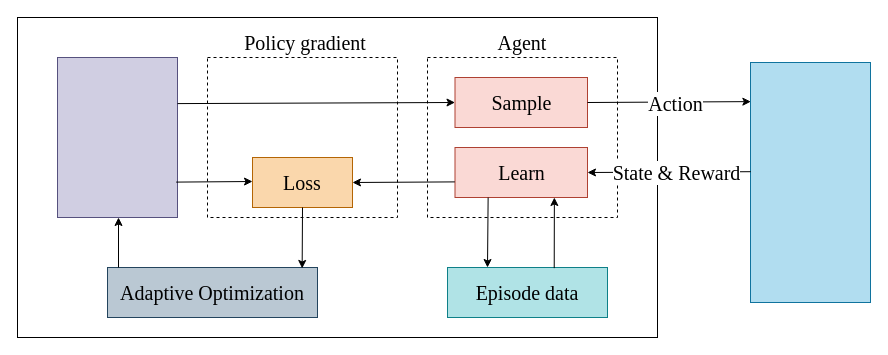
This 888x355 diagram has some shape labels left out. Each missing label, with the centre of its shape:
Environment: pixel 810 182
Policy model: pixel 117 137
